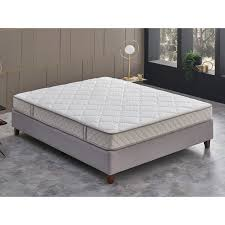bed-matress: (11, 76, 212, 151)
